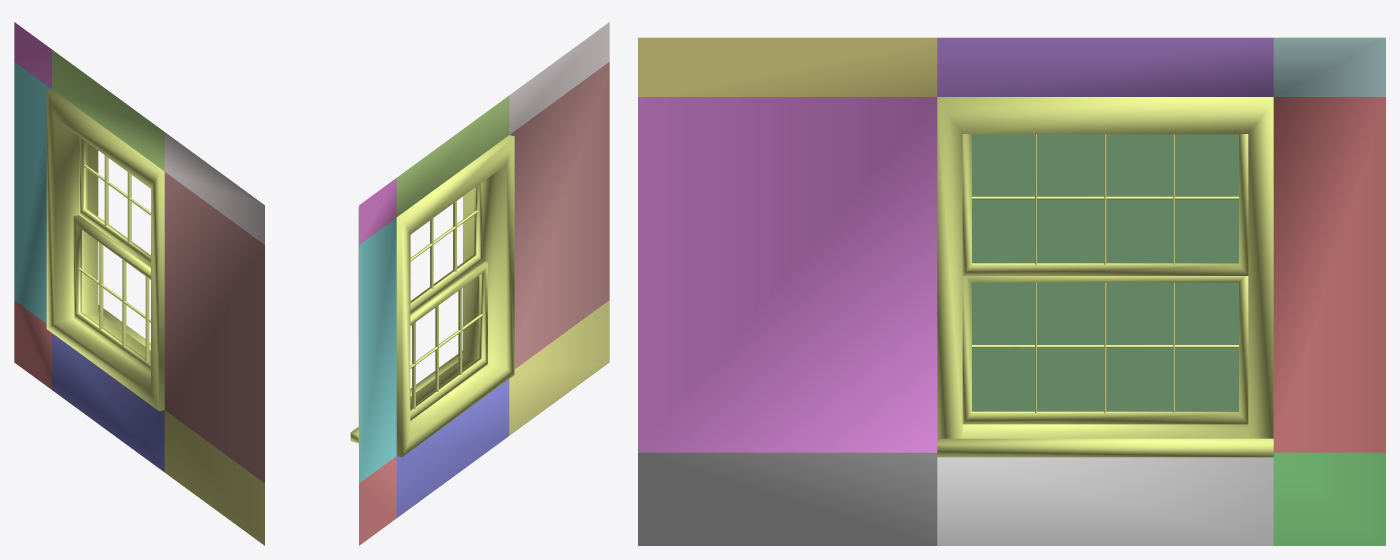
File: SM_window_03_offset.gltf
3 views of the same model, side by side, from view 1: azimuth 30°, elevation 25°; view 2: azimuth 150°, elevation 25°; view 3: azimuth 270°, elevation 25° (orthographic). The views are drawn at different scales.
Parts seen in each view (by area): view 1: SM_window_03_offset; view 2: SM_window_03_offset; view 3: SM_window_03_offset.
Boxes of the visible parts, box(x1,y1,x2,y2) form: SM_window_03_offset: box(14, 22, 264, 545); SM_window_03_offset: box(350, 22, 609, 545); SM_window_03_offset: box(638, 37, 1385, 545).
Bounding box in the file's own units: 0.4744 × 3 × 4.
